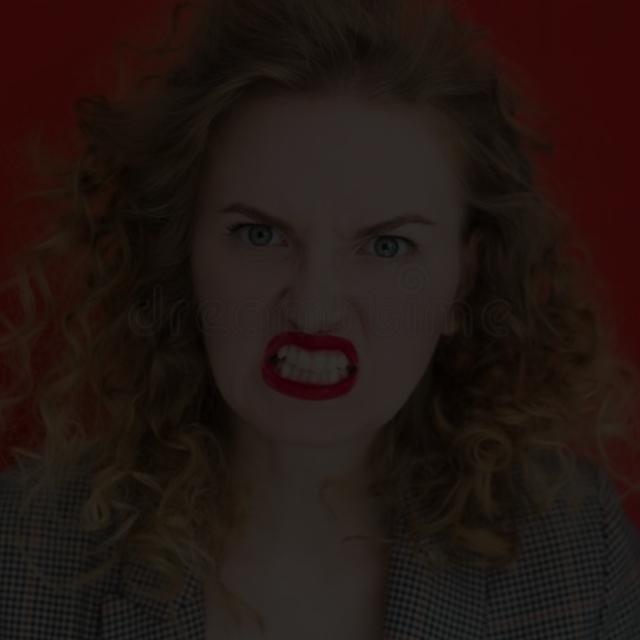Angry: (130, 35, 488, 474)
